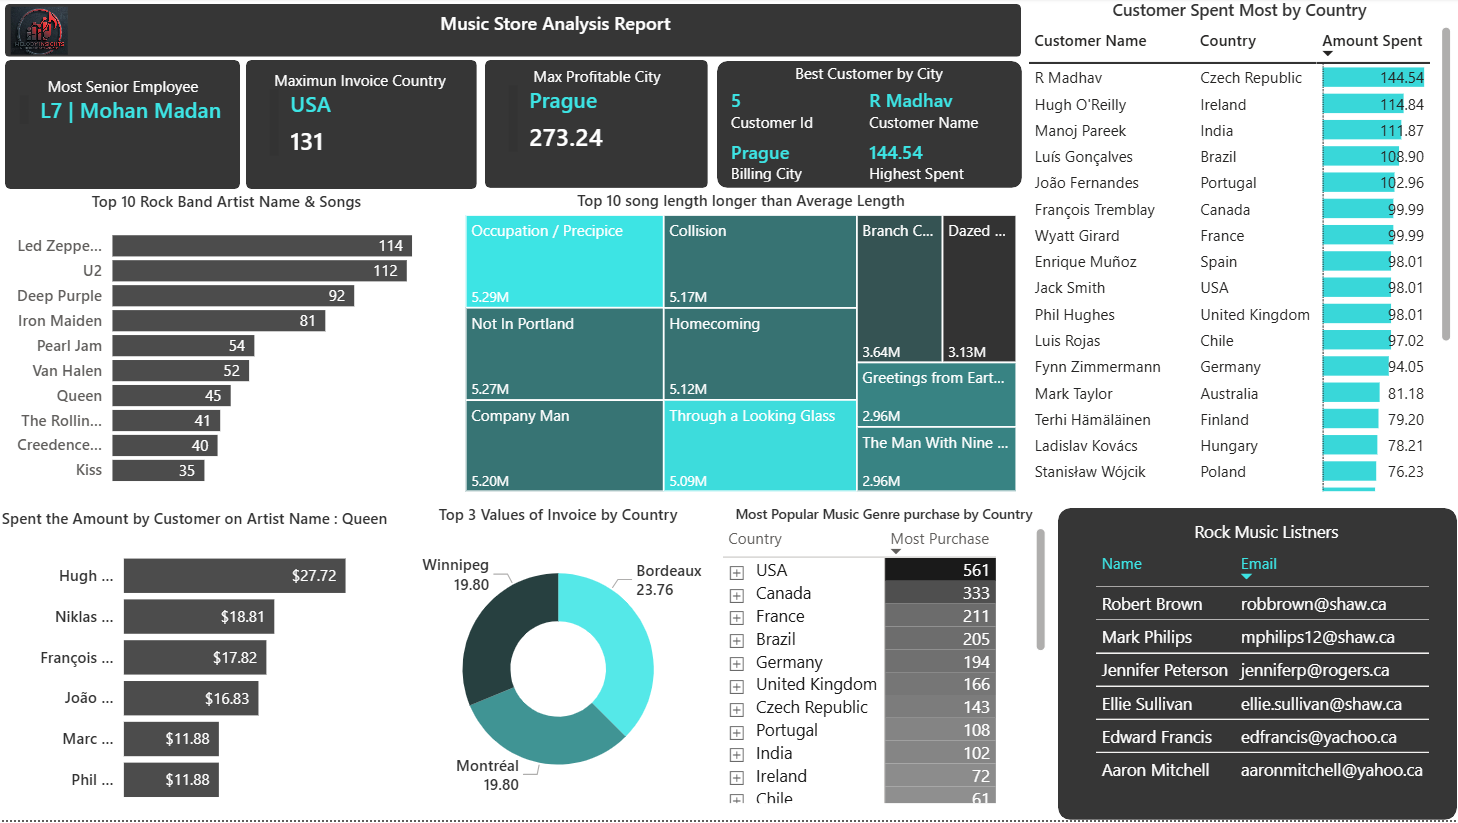

The dashboard page shown, as its layout file describes it:
{"tool":"powerbi","page":{"name":"Page 1","canvas":[1280,720],"ordinal":0},"visuals":[{"type":"shape","box":[7.9,5.3,889.9,46.4],"z":0},{"type":"shape","box":[930.2,446.7,349.5,273.3],"z":0,"group":"g1"},{"type":"shape","box":[631.5,55.2,267.2,111.2],"z":1000},{"type":"shape","box":[7.9,54.3,205.8,113],"z":2000},{"type":"shape","box":[428.3,54.3,195.3,112.1],"z":3000},{"type":"shape","box":[219,54.3,202.3,113],"z":4000},{"type":"multiRowCard","title":"Maximun Invoice Country","fields":{"Values":["Max(2  Which countries have the most Invoices.billing_country)","2  Which countries have the most Invoices.most_inv"]},"box":[234.7,63.1,168.2,97.2],"z":5000},{"type":"multiRowCard","title":"Max Profitable City","fields":{"Values":["4  Which city has the best customers.billing_city","Sum(4  Which city has the best customers.highest_sum)"]},"box":[444.1,59.6,164.7,105.1],"z":6000},{"type":"multiRowCard","title":"Most Senior Employee","fields":{"Values":["1  Who is the senior most employee based on job title2.Level & Employee Name"]},"box":[15.8,68.3,190.9,87.6],"z":7000},{"type":"donutChart","title":"Top 3 Values of Invoice by Country","fields":{"Y":["Sum(3  What are top 3 values of total invoice.total)"],"Category":["3  What are top 3 values of total invoice.billing_city"]},"box":[352.9,443.3,278.8,276.9],"z":8000},{"type":"multiRowCard","title":"Best Customer by City","fields":{"Values":["5  Which city has the best customers.Customer_id","5  Which city has the best customers.Customer Name","5  Which city has the best customers.Billing_city","Sum(5  Which city has the best customers.higest_sum)"]},"box":[638.5,56.9,252.3,109.5],"z":9000},{"type":"barChart","title":"Top 10 Rock Band Artist Name & Songs ","fields":{"Y":["Sum(7  artists who have written the most rock music.num_of_songs)"],"Category":["7  artists who have written the most rock music.name"]},"box":[0,169.1,403.8,268],"z":10000},{"type":"tableEx","title":"Rock Music Listners","fields":{"Values":["6  Write query to return the email, first name, last name, & Genre of all Rock M.Name","6  Write query to return the email, first name, last name, & Genre of all Rock M.email"]},"box":[942.1,457.3,325.7,252.1],"z":10000,"group":"g1"},{"type":"treemap","title":"Top 10 song length longer than Average Length","fields":{"Group":["8  all the track names that have a song length longer than the average song leng.name"],"Values":["Sum(8  all the track names that have a song length longer than the average song leng.time_length_of_songs)"]},"box":[406.4,168.2,492.3,268.9],"z":11000},{"type":"barChart","title":"Spent the Amount by Customer on Artist Name : Queen","fields":{"Category":["9  Find how much amount spent by each customer.Customer Name"],"Y":["Sum(9  Find how much amount spent by each customer.total_spent)"]},"box":[0,447.1,352.9,273.1],"z":12000},{"type":"group","id":"g1","title":"Group 1","box":[930.2,446.7,349.5,273.3],"z":13000},{"type":"tableEx","title":"Customer Spent Most by Country","fields":{"Values":["11  customer that has spent the most on music for each country.Customer Name","11  customer that has spent the most on music for each country.country","Sum(11  customer that has spent the most on music for each country.amount_spent)"]},"box":[898.7,0,381,437.1],"z":14000},{"type":"pivotTable","title":"Most Popular Music Genre purchase by Country","fields":{"Rows":["10  We want to find out the most popular music Genre for each country.country","10  We want to find out the most popular music Genre for each country.name"],"Values":["Sum(10  We want to find out the most popular music Genre for each country.purchase)"]},"box":[631.5,443.2,292.6,267.2],"z":15000},{"type":"textbox","box":[318.8,6.1,342.5,39.4],"z":16000},{"type":"image","box":[8,2.2,60.2,51.5],"z":17000}]}

Visuals, with their boxes in screenshot pixels (x1, y1, x2, y2), scaled from the page's 1280x720 canvas onto the 1458x823 screenshot:
shape: box=[9, 6, 1023, 59]
shape: box=[1060, 511, 1457, 822]
shape: box=[719, 63, 1024, 190]
shape: box=[9, 62, 243, 191]
shape: box=[488, 62, 710, 190]
shape: box=[249, 62, 480, 191]
"Maximun Invoice Country" multiRowCard: box=[267, 72, 459, 183]
"Max Profitable City" multiRowCard: box=[506, 68, 693, 188]
"Most Senior Employee" multiRowCard: box=[18, 78, 235, 178]
"Top 3 Values of Invoice by Country" donutChart: box=[402, 507, 720, 822]
"Best Customer by City" multiRowCard: box=[727, 65, 1015, 190]
"Top 10 Rock Band Artist Name & Songs " barChart: box=[0, 193, 460, 500]
"Rock Music Listners" tableEx: box=[1073, 523, 1444, 811]
"Top 10 song length longer than Average Length" treemap: box=[463, 192, 1024, 500]
"Spent the Amount by Customer on Artist Name : Queen" barChart: box=[0, 511, 402, 822]
"Group 1" group: box=[1060, 511, 1457, 822]
"Customer Spent Most by Country" tableEx: box=[1024, 0, 1457, 500]
"Most Popular Music Genre purchase by Country" pivotTable: box=[719, 507, 1053, 812]
textbox: box=[363, 7, 753, 52]
image: box=[9, 3, 78, 61]
